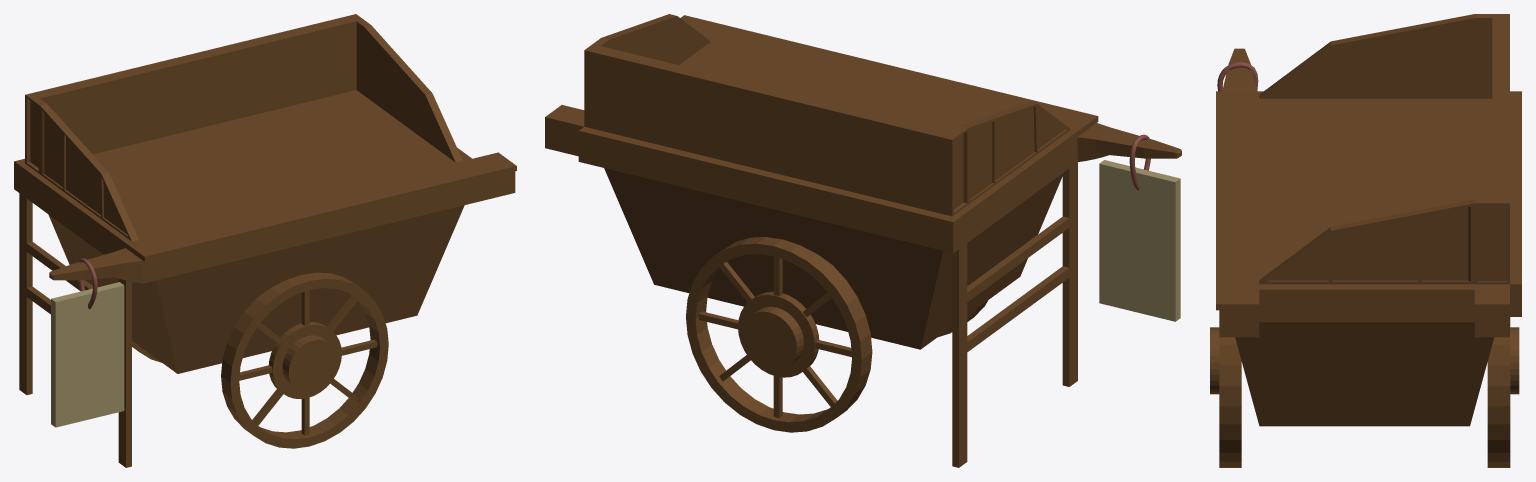
File: Display.fbx
The picture shows the model from 3 angles, left to right: view 1: azimuth 30°, elevation 25°; view 2: azimuth 150°, elevation 25°; view 3: azimuth 270°, elevation 25°; orthographic projection. The views are drawn at different scales.
Visible parts, largest first — view 1: Puesto, Rueda, Plane; view 2: Puesto, Rueda, Plane; view 3: Puesto, Rueda, Cuerda.
Boxes of the visible parts, x1,y1,x2,y2 form: Puesto: (14,14,516,467); Rueda: (132,272,388,448); Plane: (51,282,124,427); Puesto: (545,14,1181,467); Rueda: (686,237,987,432); Plane: (1099,160,1180,321); Puesto: (1216,14,1521,426); Rueda: (1210,317,1519,467); Cuerda: (1217,62,1258,91).
Bounding box in the file's own units: 451 × 284 × 228.
